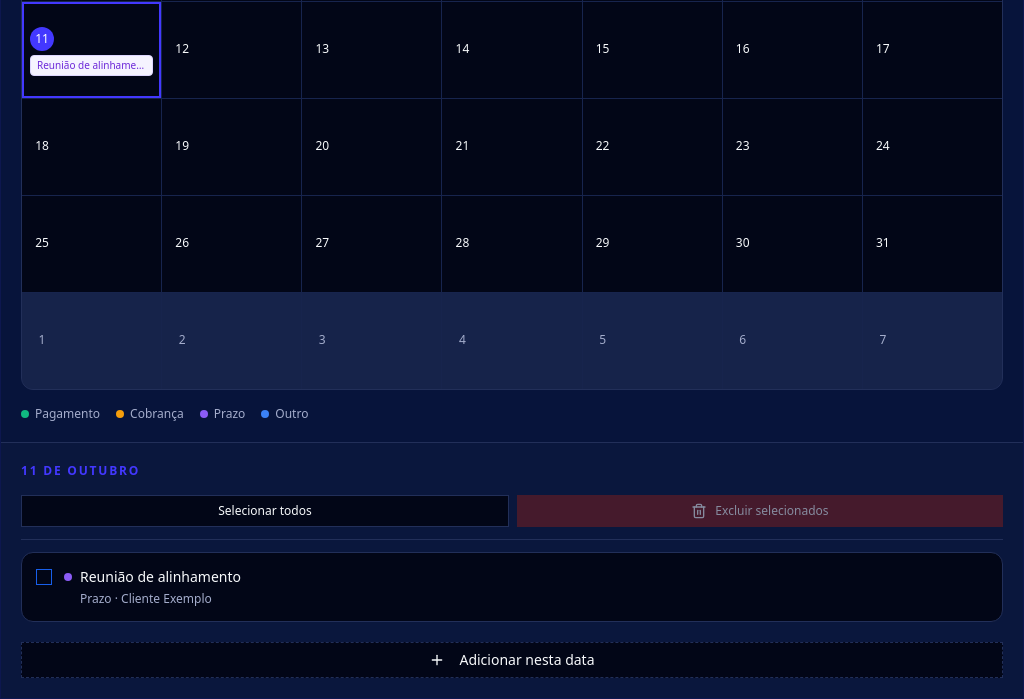
Test: calendário do dashboard › exclui um evento após confirmação e atualiza o calendário
This screenshot has width=1024, height=699.
(page scrolled)
Click the 2nd text "Reunião de alinhamento" at (160, 577), box [80,567,241,587]
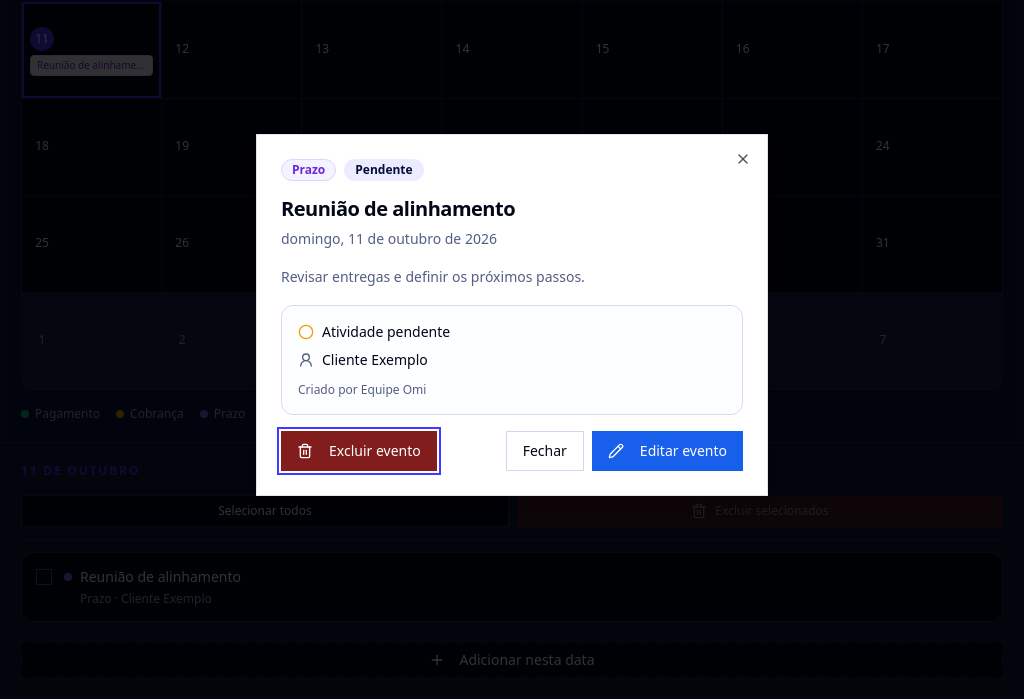
Click the button "Excluir evento" at (359, 451), box [281,431,437,471]
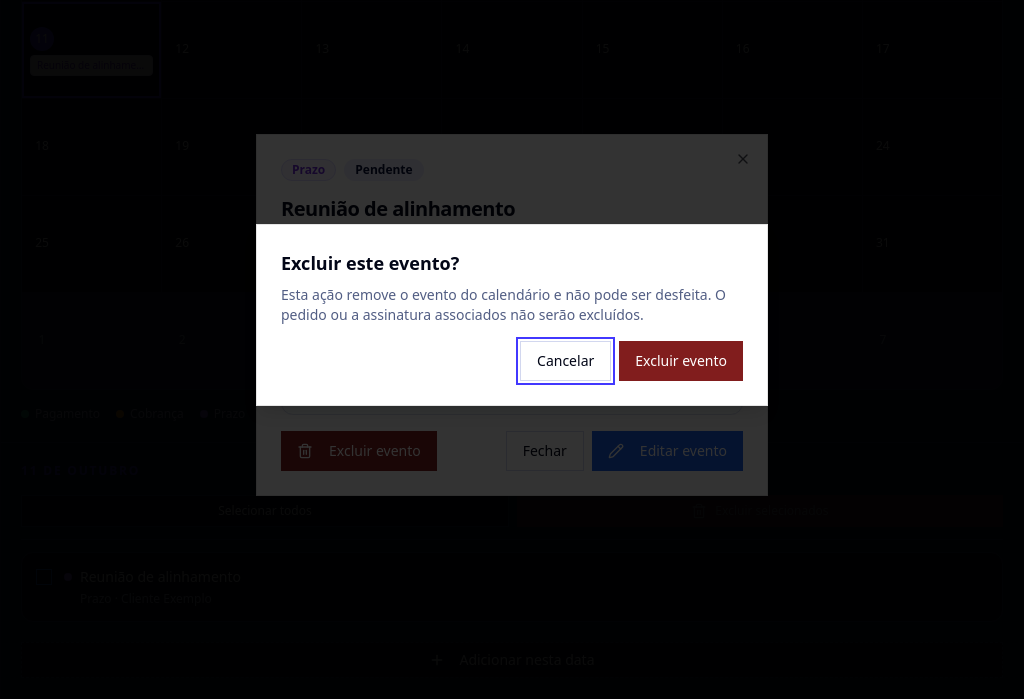
Click the button "Excluir evento" at (681, 361), box [619,341,743,381]
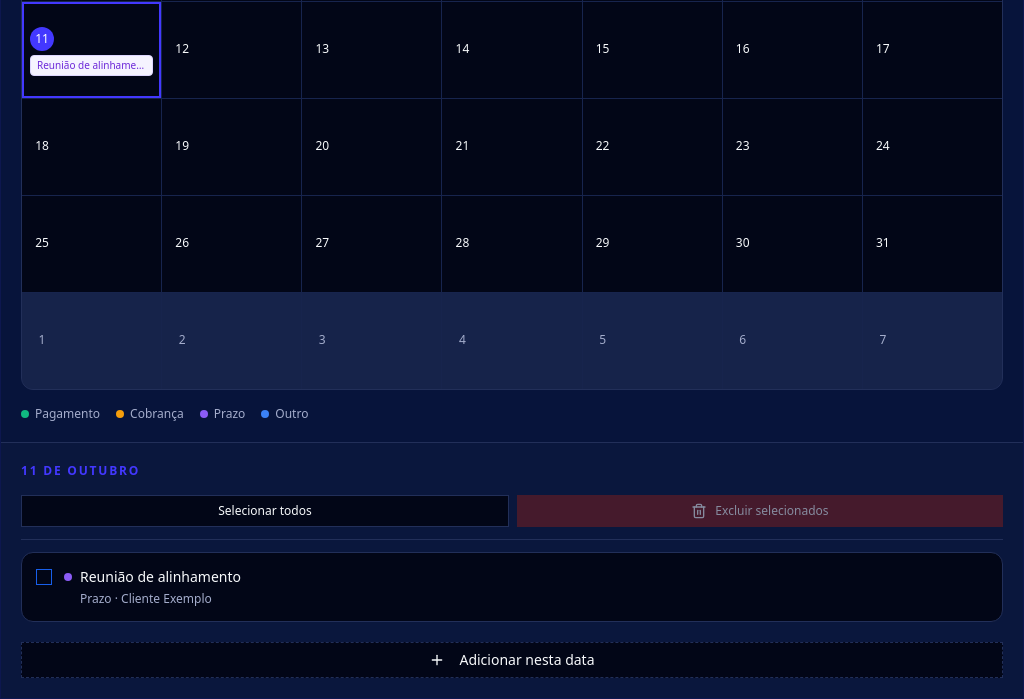
Result: the dialog is gone
